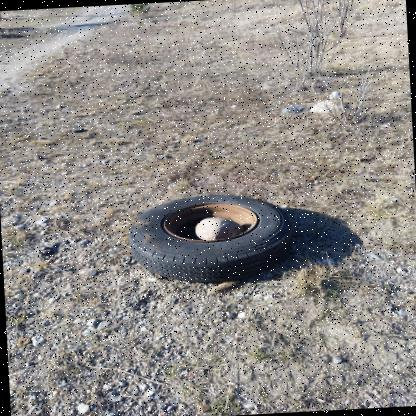Unlabeled litter: (128, 194, 293, 282)
